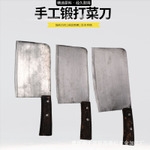knief: (12, 33, 57, 139)
